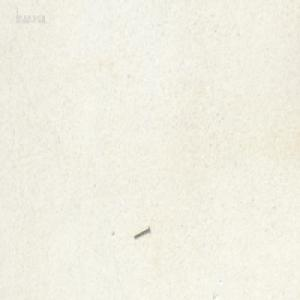Bolt: (132, 227, 150, 240)
